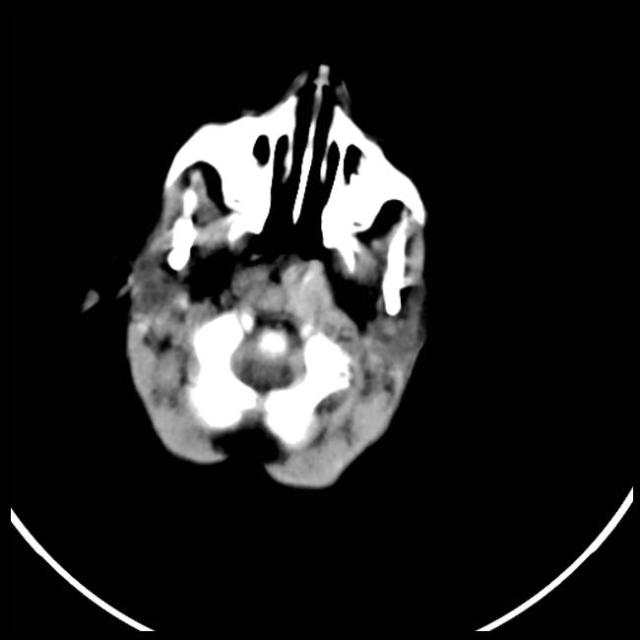lesion: (98, 58, 439, 494)
